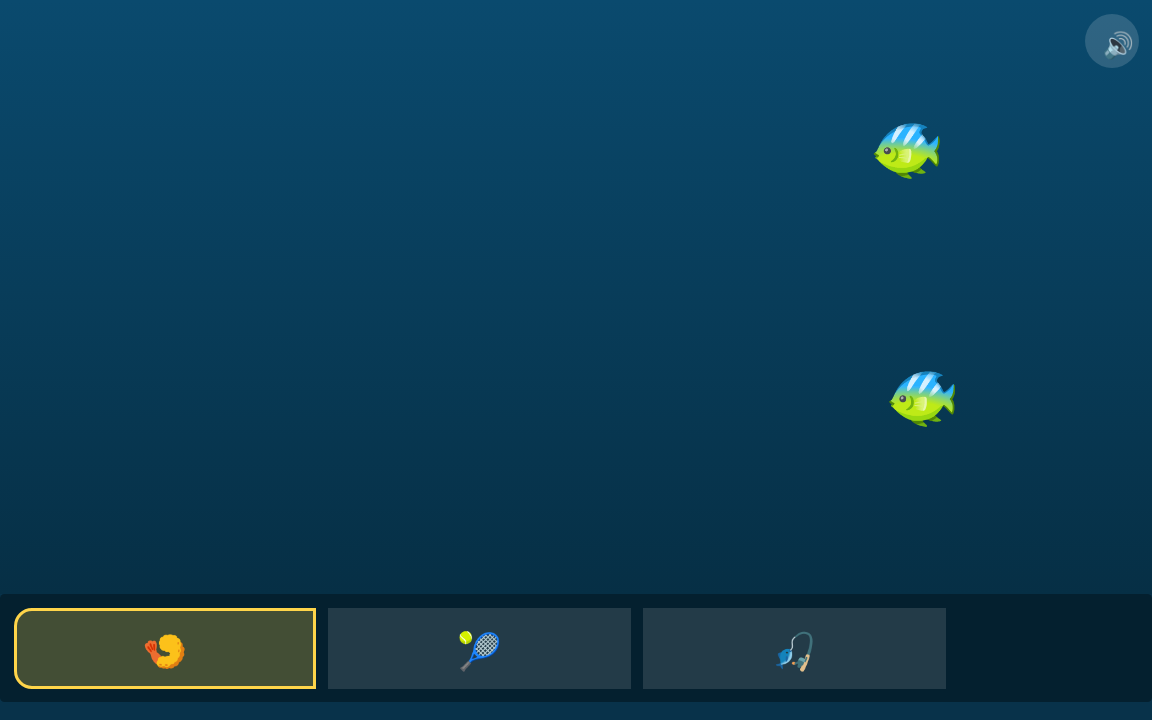
Test: Aquarium page › tapping the tank with toy selected drops a toy
This screenshot has width=1152, height=720.
Click the button named "toy": x=480, y=648 [328,608,631,688]
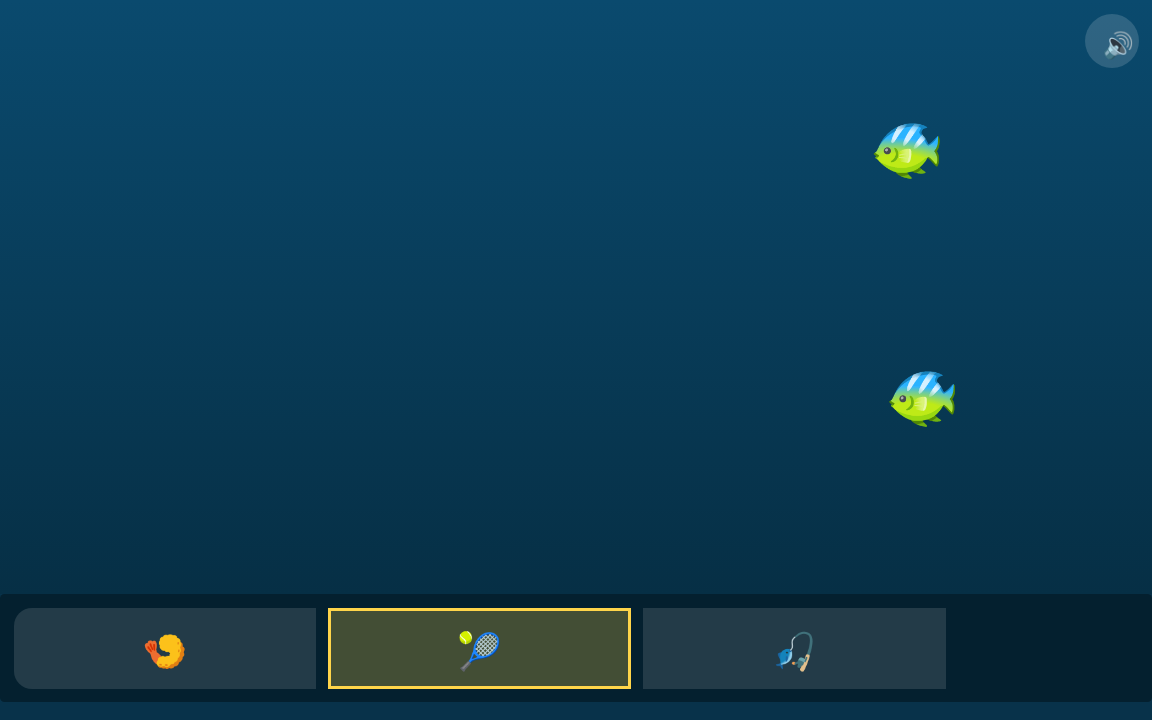
Click the element showing "🐠 🐠": x=576, y=297 [0,0,1151,594]
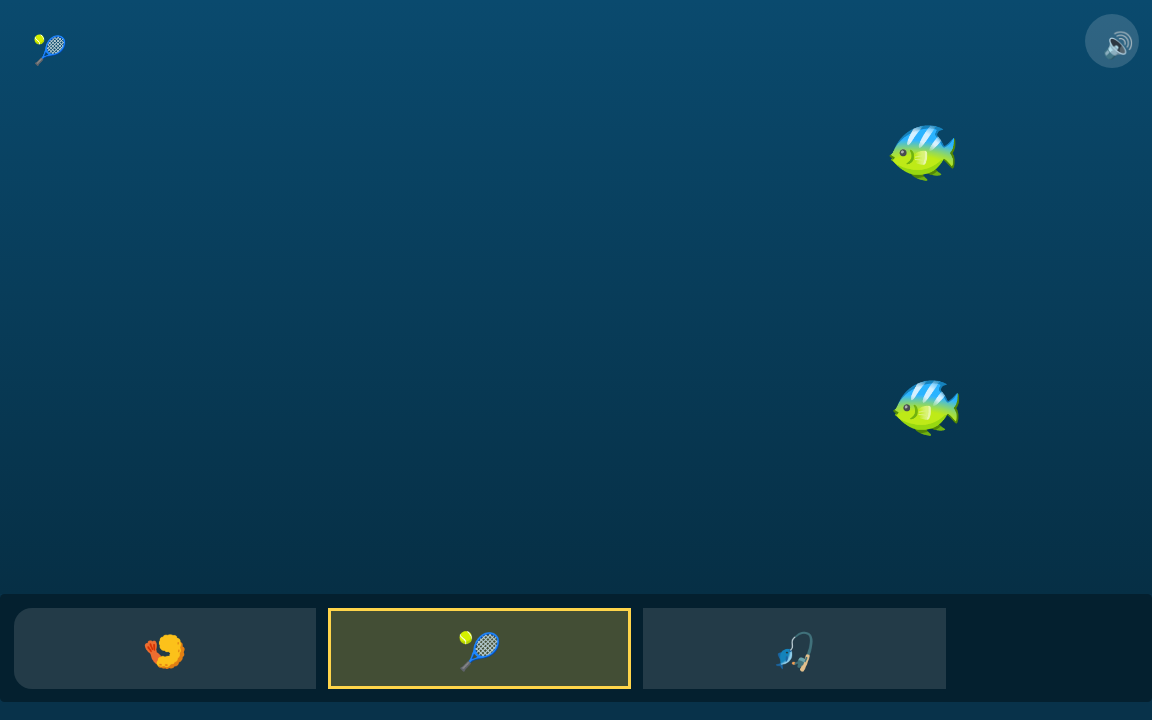
expect the text with test id "toyDrop" is shown: met, box [32,28,67,72]
